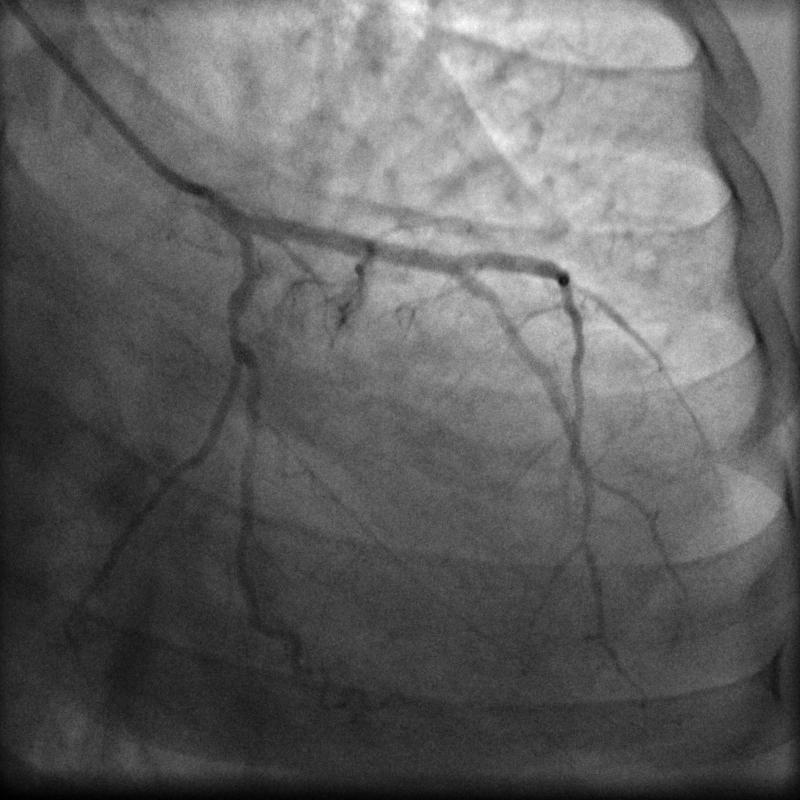Stenosis: (218, 294, 261, 350)
